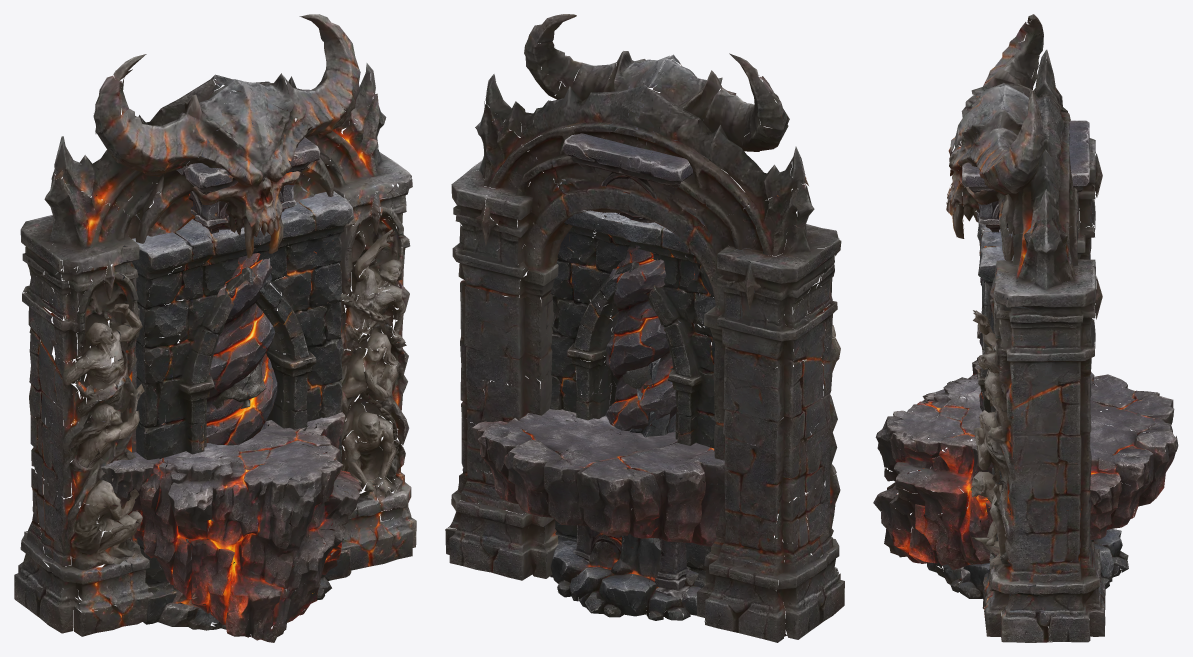
File: inframundo.glb
The picture shows the model from 3 angles, left to right: view 1: azimuth 30°, elevation 25°; view 2: azimuth 150°, elevation 25°; view 3: azimuth 270°, elevation 25°; orthographic projection. The views are drawn at different scales.
Visible parts, largest first — view 1: puerta_demoniaca, muro_calavera, roca_borde, pilar_retorcido, estalagmitas; view 2: puerta_demoniaca, muro_calavera, roca_borde, pilar_retorcido, estalagmitas; view 3: puerta_demoniaca, roca_borde, pilar_retorcido, estalagmitas, muro_calavera.
Boxes of the visible parts, box(x1,y1,x2,y2) form: puerta_demoniaca: box(14, 14, 416, 636); muro_calavera: box(113, 174, 353, 624); roca_borde: box(78, 366, 361, 642); pilar_retorcido: box(160, 111, 320, 608); estalagmitas: box(158, 539, 331, 630); puerta_demoniaca: box(445, 14, 844, 642); muro_calavera: box(531, 179, 767, 587); roca_borde: box(472, 379, 794, 546); pilar_retorcido: box(562, 98, 711, 612); estalagmitas: box(546, 358, 701, 620); puerta_demoniaca: box(946, 14, 1105, 642); roca_borde: box(873, 356, 1178, 569); pilar_retorcido: box(960, 120, 1089, 587); estalagmitas: box(927, 528, 1128, 598); muro_calavera: box(976, 220, 1072, 611).
Bounding box in the file's own units: 2.99 × 4.4 × 2.38.
Materials: 7 (7 with a texture image).
